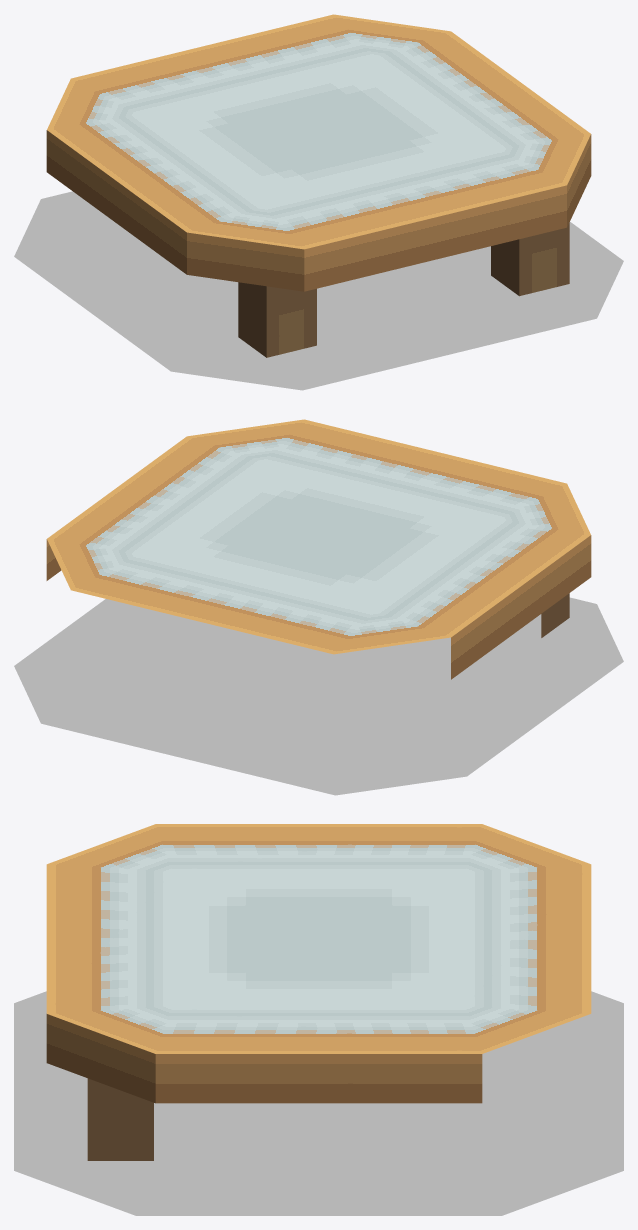
3 renders of one model, top to bottom at view 1: azimuth 30°, elevation 25°; view 2: azimuth 150°, elevation 25°; view 3: azimuth 270°, elevation 25°, orthographic. The views are drawn at different scales.
Parts seen in each view (by area): view 1: polygon0, polygon1; view 2: polygon0, polygon1; view 3: polygon0, polygon1.
Part boxes in pixels (box(x1,y1,x2,y2)): polygon0: box(46, 14, 591, 357); polygon1: box(14, 191, 623, 390); polygon0: box(46, 419, 591, 679); polygon1: box(14, 597, 623, 795); polygon0: box(46, 824, 591, 1160); polygon1: box(14, 991, 623, 1215).
Bounding box in the file's own units: 11.21 × 3 × 11.21.
